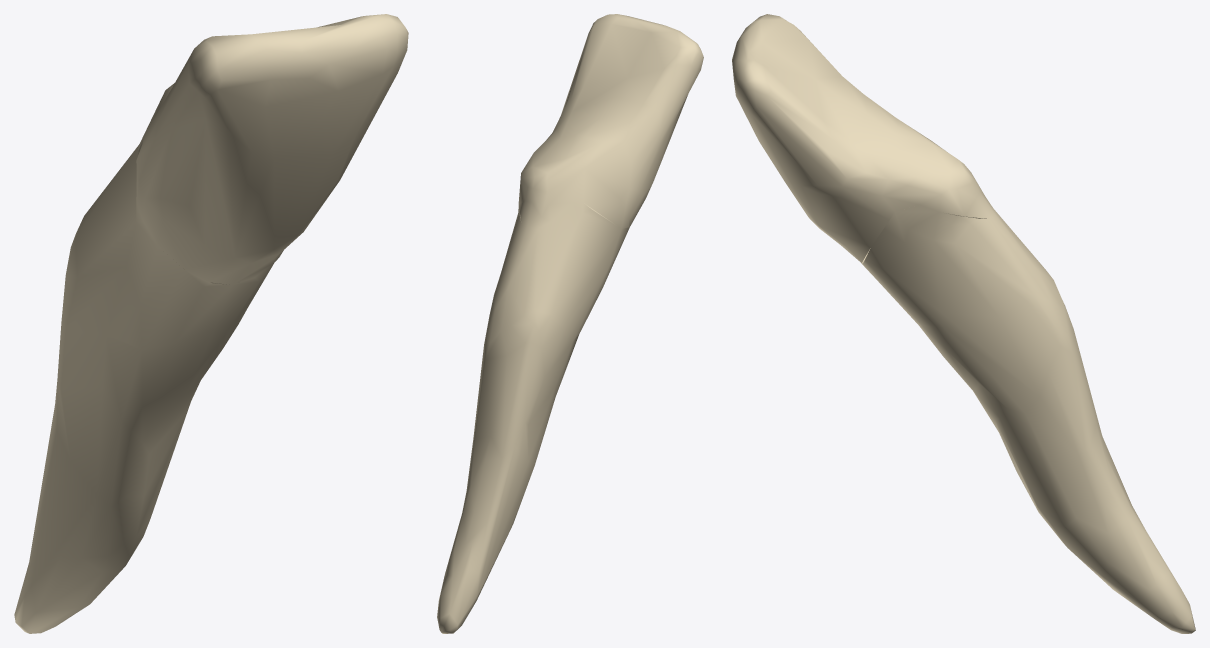
Rendered from esqueleto-lower-medial-incisor-r.glb.
3 renders of one model, left to right at view 1: azimuth 30°, elevation 25°; view 2: azimuth 150°, elevation 25°; view 3: azimuth 270°, elevation 25°, orthographic. The views are drawn at different scales.
Visible parts, largest first — view 1: Lower medial incisor.r; view 2: Lower medial incisor.r; view 3: Lower medial incisor.r.
Part boxes in pixels (x1,y1,x2,y2): Lower medial incisor.r: (14, 14, 408, 633); Lower medial incisor.r: (437, 14, 703, 633); Lower medial incisor.r: (732, 14, 1195, 633).
Size of the model in its own units: 0.00609 by 0.0247 by 0.0179.
